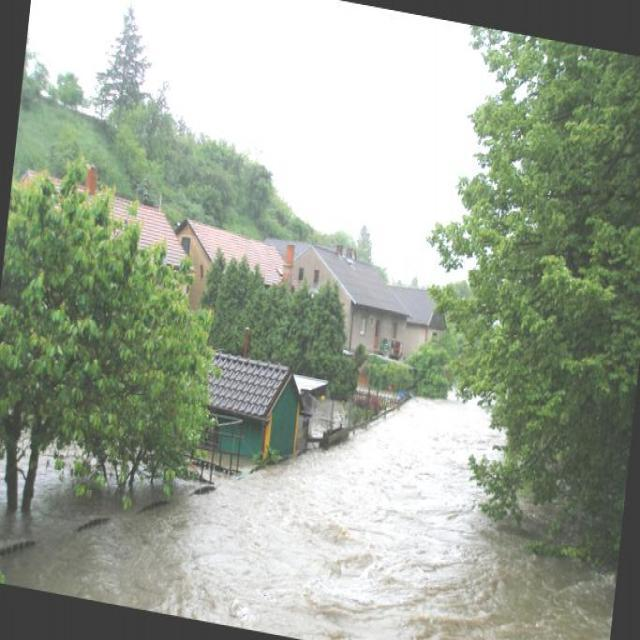flood: (0, 298, 631, 639)
